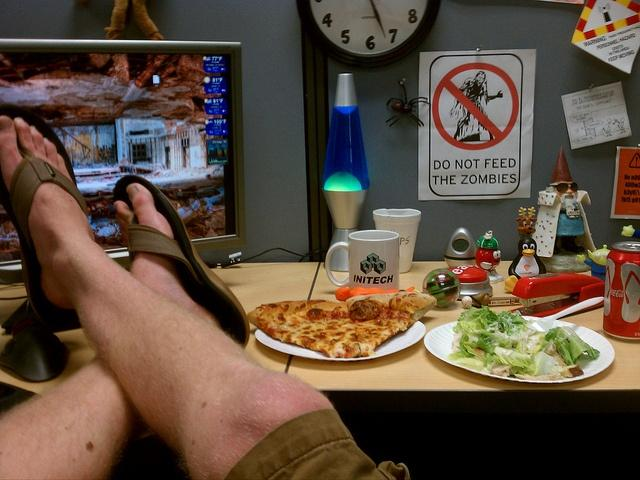AIO PC-Monitor-TV: (0, 37, 245, 284)
